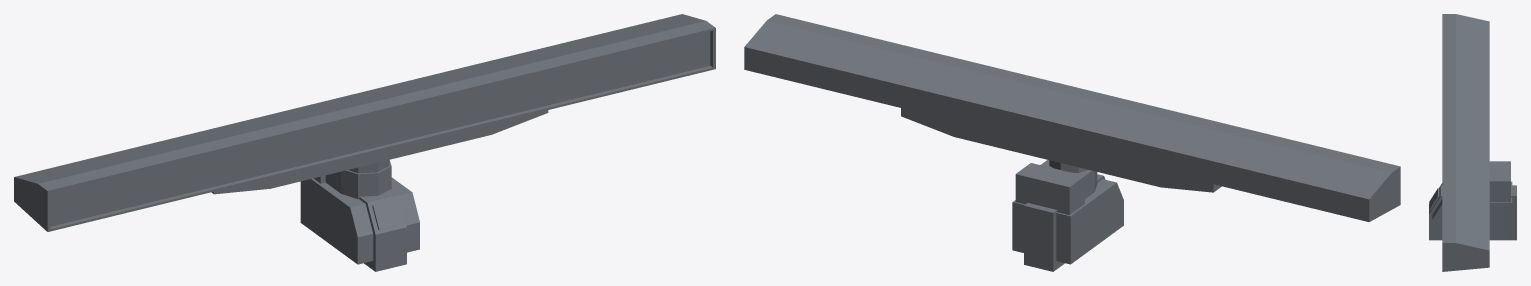
The model's file is ops39.glb.
The picture shows the model from 3 angles, left to right: view 1: azimuth 30°, elevation 25°; view 2: azimuth 150°, elevation 25°; view 3: azimuth 270°, elevation 25°; orthographic projection. The views are drawn at different scales.
Parts seen in each view (by area): view 1: radar, body; view 2: radar, body; view 3: radar, body.
Part boxes in pixels (x1,y1,x2,y2): radar: [14, 14, 715, 231]; body: [300, 160, 419, 271]; radar: [744, 14, 1400, 221]; body: [1012, 160, 1123, 271]; radar: [1442, 14, 1489, 271]; body: [1429, 161, 1516, 240].
Size of the model in its own units: 4 by 0.8678 by 0.6482.
1 material, 1 textured.
